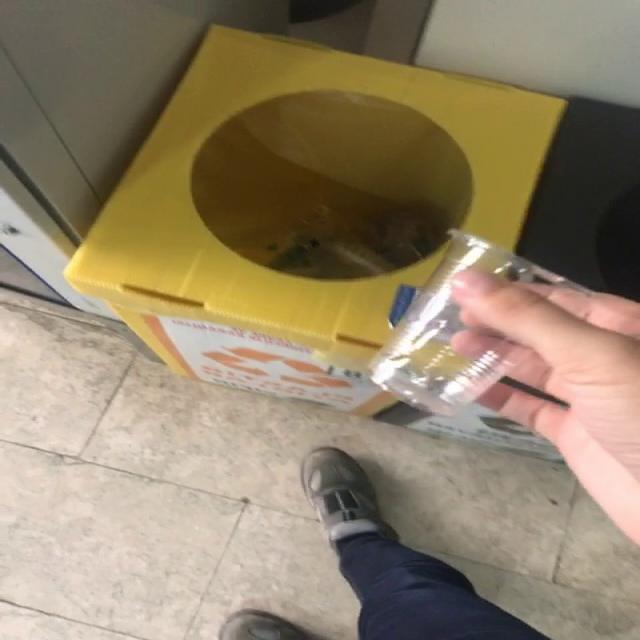Plastic: (369, 230, 587, 416)
